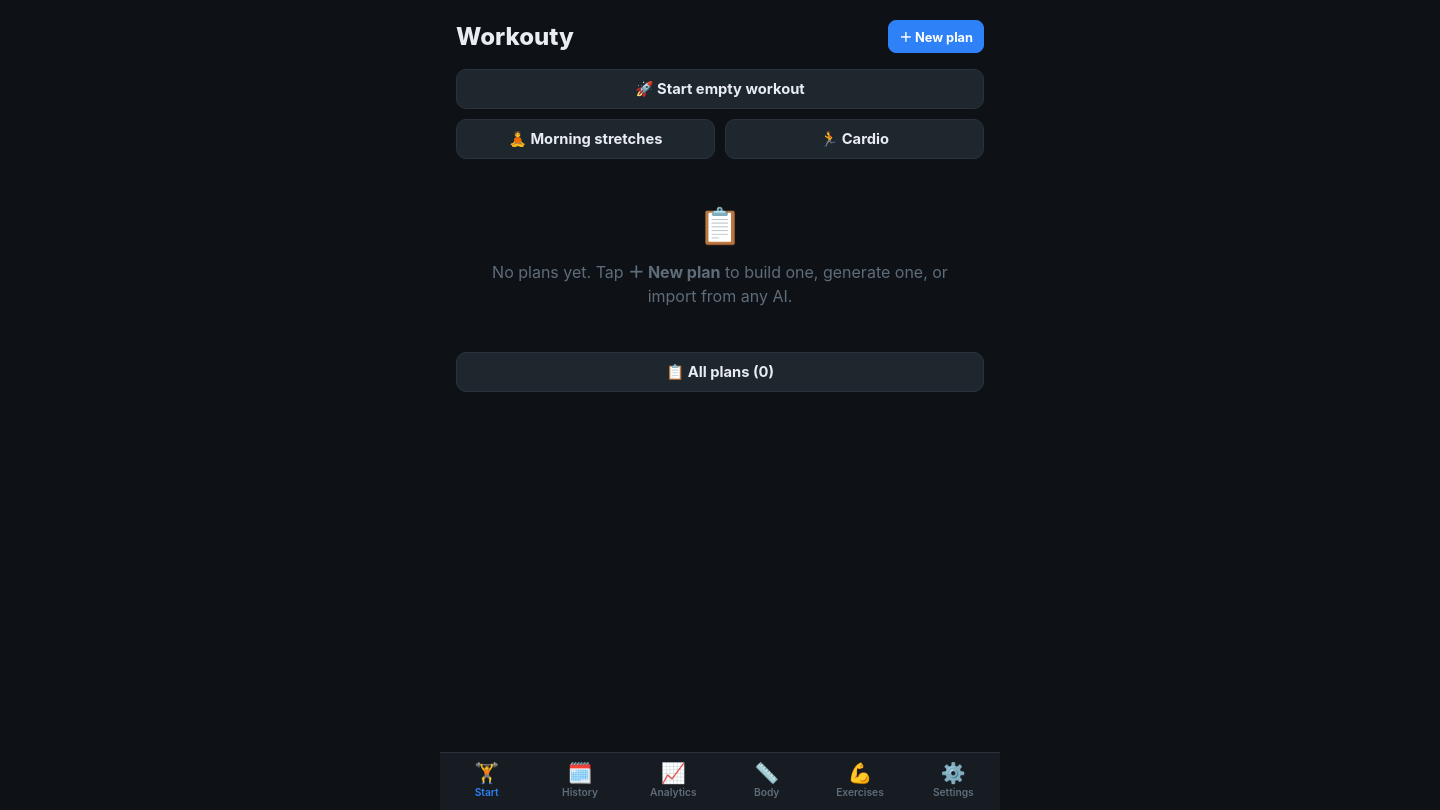
Test: custom exercise duplicate check › blocks creating an exercise that already exists
The image size is (1440, 810).
Click the text "Exercises".
click(860, 792)  # box [836,786,884,798]
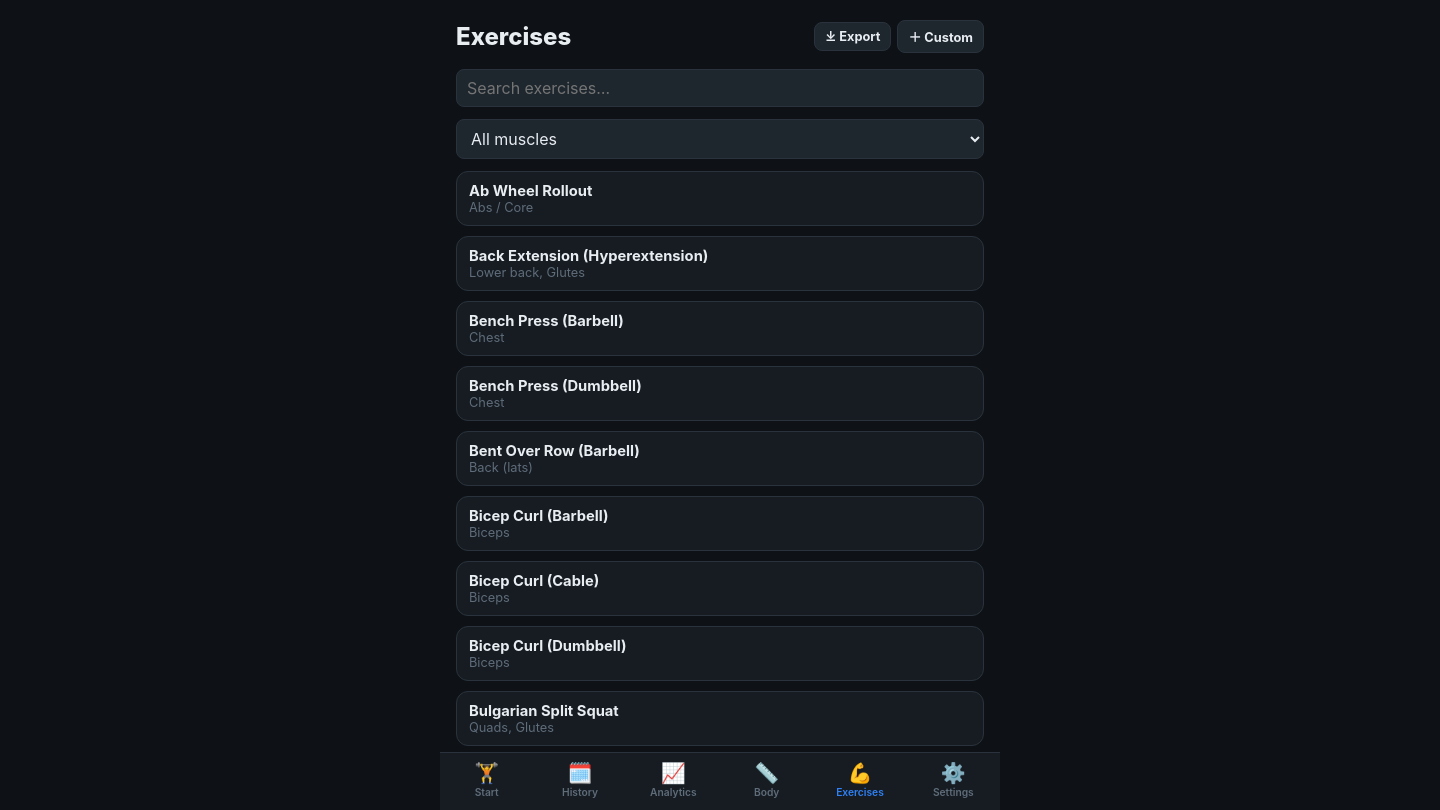
Click the button "＋ Custom".
click(941, 36)  # box [898,20,984,53]
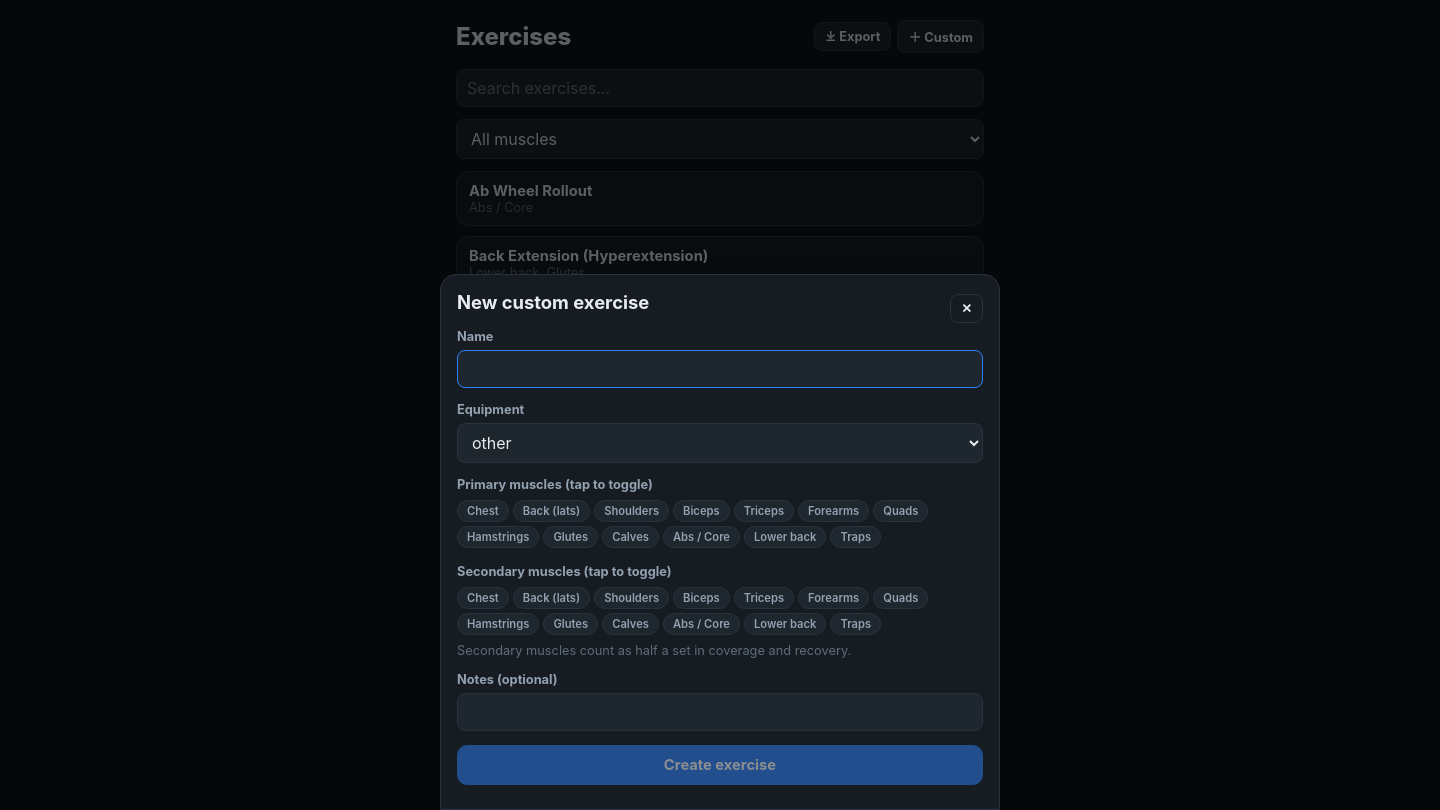
Type "bench press barbell" into the field below "Name".
click(720, 369); type("bench press barbell")  # box [457,350,983,388]
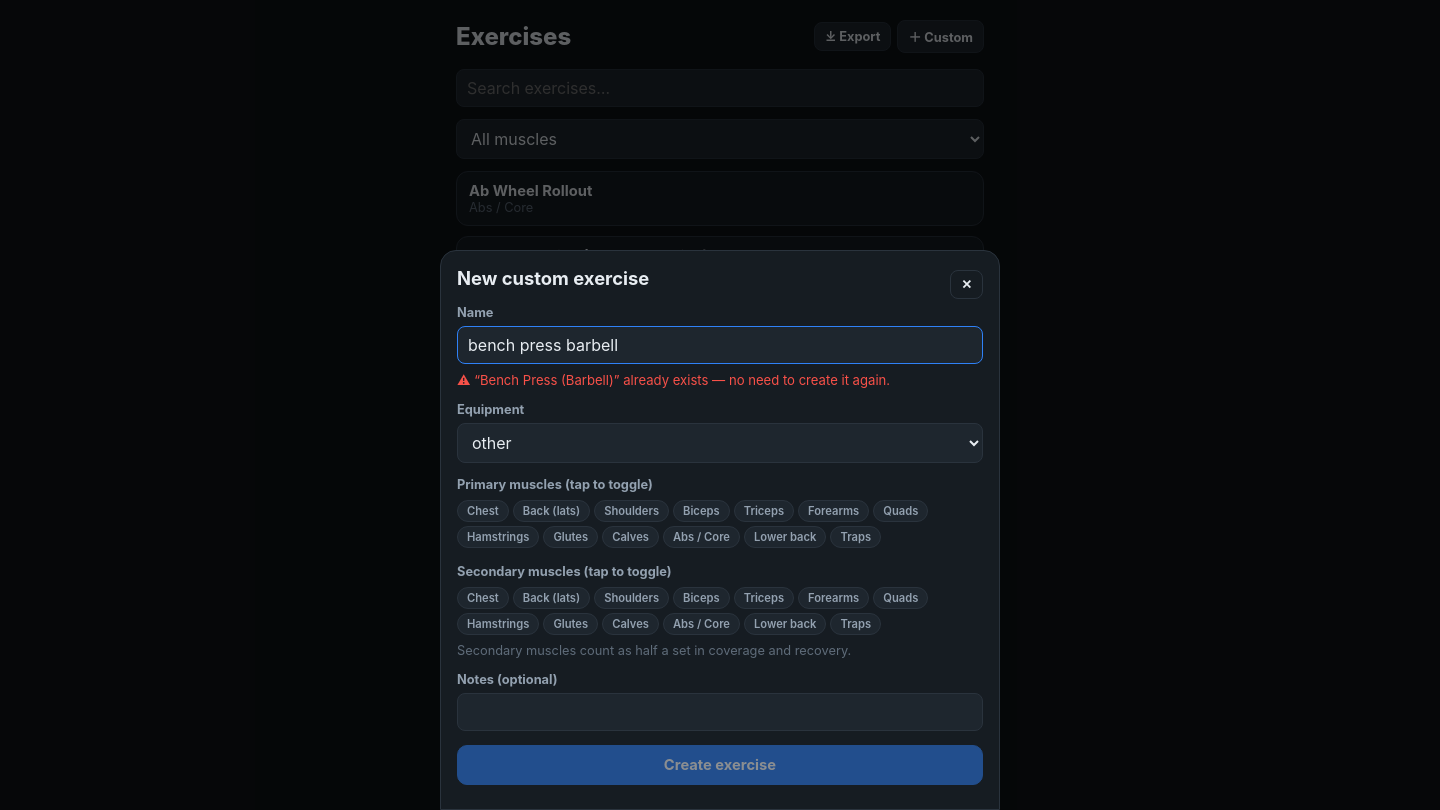
Check: the button "Create exercise" is disabled, box [457,745,983,785]
Check: the text "already exists" is shown, box [614,372,890,388]
